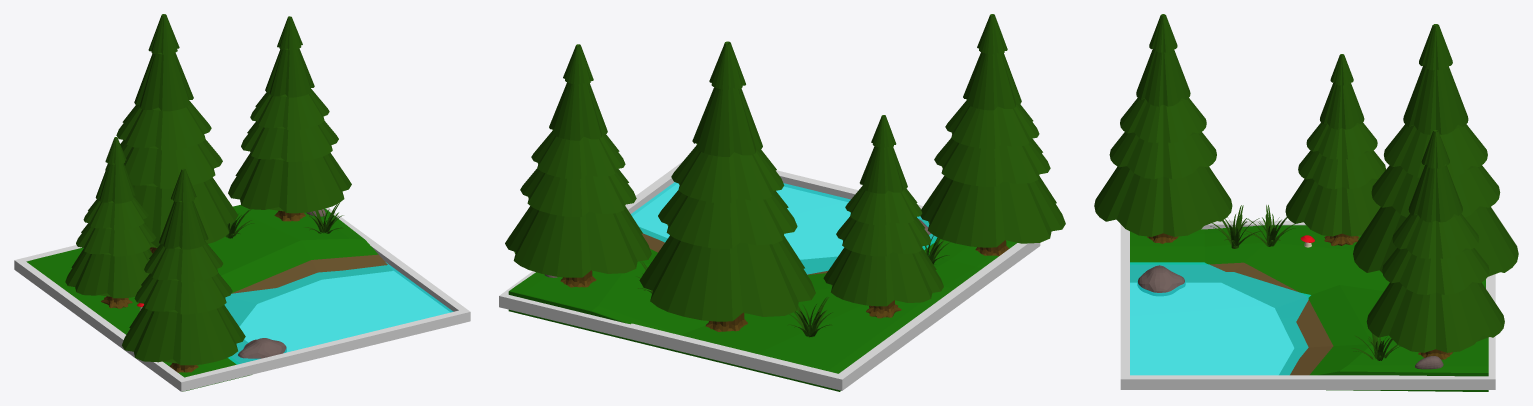
File: Animal Habitat Raccoon.fbx
3 views of the same model, side by side, from view 1: azimuth 30°, elevation 25°; view 2: azimuth 150°, elevation 25°; view 3: azimuth 270°, elevation 25° (orthographic). The views are drawn at different scales.
Parts seen in each view (by area): view 1: Cube, Cube.001, Cylinder.005, Cylinder.001, Cylinder.003, Cube.002, Cylinder.002, Cube.003, Plane.001; view 2: Cylinder.003, Cube.001, Cylinder.005, Cylinder.001, Cube, Cylinder.002, Cube.002, Plane.001; view 3: Cube.001, Cube, Cube.002, Cylinder.001, Cylinder.005, Cylinder.003, Cylinder.002, Plane.001, Cube.003.
Part boxes in pixels (left/top/right/bottom): Cube: left=14, top=207, right=470, bottom=391; Cube.001: left=26, top=204, right=392, bottom=391; Cylinder.005: left=228, top=16, right=351, bottom=221; Cylinder.001: left=122, top=168, right=245, bottom=372; Cylinder.003: left=105, top=14, right=238, bottom=253; Cube.002: left=224, top=262, right=453, bottom=364; Cylinder.002: left=65, top=137, right=156, bottom=308; Cube.003: left=238, top=338, right=286, bottom=359; Plane.001: left=138, top=203, right=343, bottom=313; Cylinder.003: left=639, top=41, right=815, bottom=331; Cube.001: left=508, top=218, right=1017, bottom=391; Cylinder.005: left=505, top=44, right=651, bottom=287; Cylinder.001: left=920, top=14, right=1065, bottom=255; Cube: left=499, top=161, right=1040, bottom=390; Cylinder.002: left=823, top=115, right=943, bottom=318; Cube.002: left=631, top=182, right=937, bottom=274; Plane.001: left=636, top=235, right=950, bottom=337; Cube.001: left=1130, top=225, right=1488, bottom=391; Cube: left=1120, top=220, right=1495, bottom=389; Cube.002: left=1130, top=262, right=1310, bottom=375; Cylinder.001: left=1094, top=14, right=1232, bottom=243; Cylinder.005: left=1366, top=130, right=1504, bottom=359; Cylinder.003: left=1353, top=24, right=1518, bottom=276; Cylinder.002: left=1285, top=54, right=1385, bottom=245; Plane.001: left=1210, top=205, right=1400, bottom=360; Cube.003: left=1137, top=265, right=1185, bottom=295.
Bounding box in the file's own units: 6950 × 5022 × 6791.
